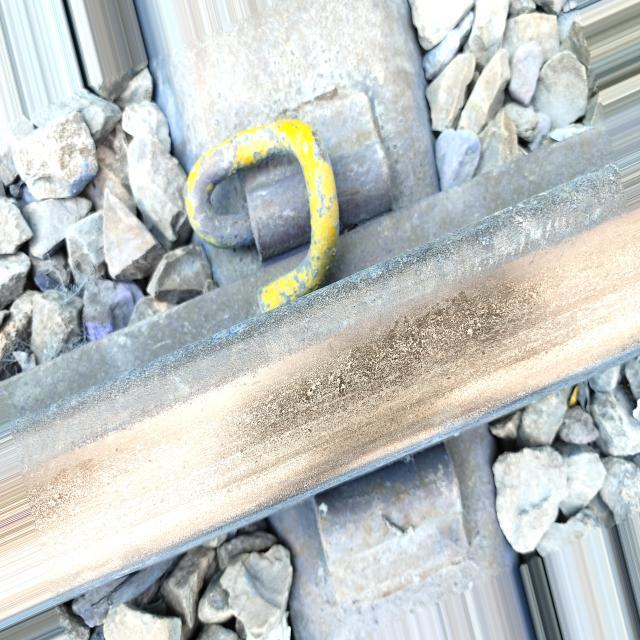Good Fasteners: (170, 54, 421, 332)
Missing Fastener: (299, 432, 508, 640)
